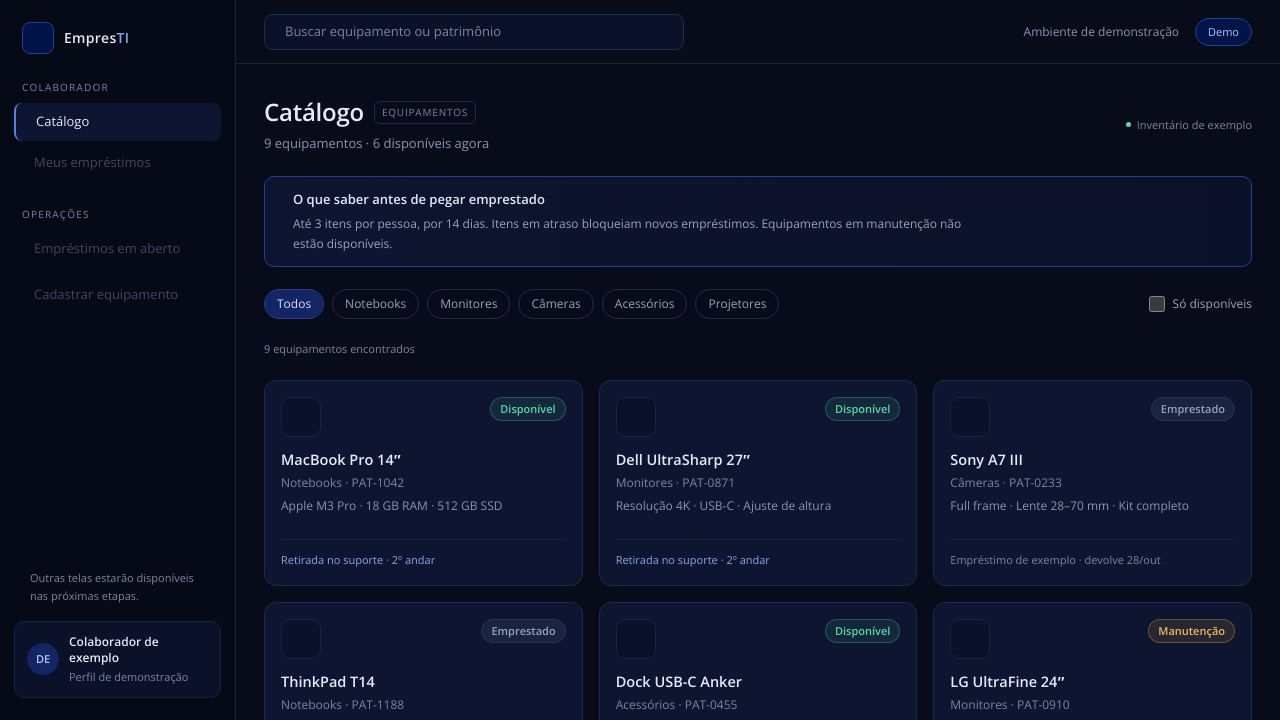
it: catálogo demonstrativo › CA-02: busca patrimônio e ignora acentos e caixa
Step 1. Type "pat-0233" into the field labelled "Buscar equipamento ou patrimônio" → (478, 32), box top-left (285, 22), bottom-right (671, 41)
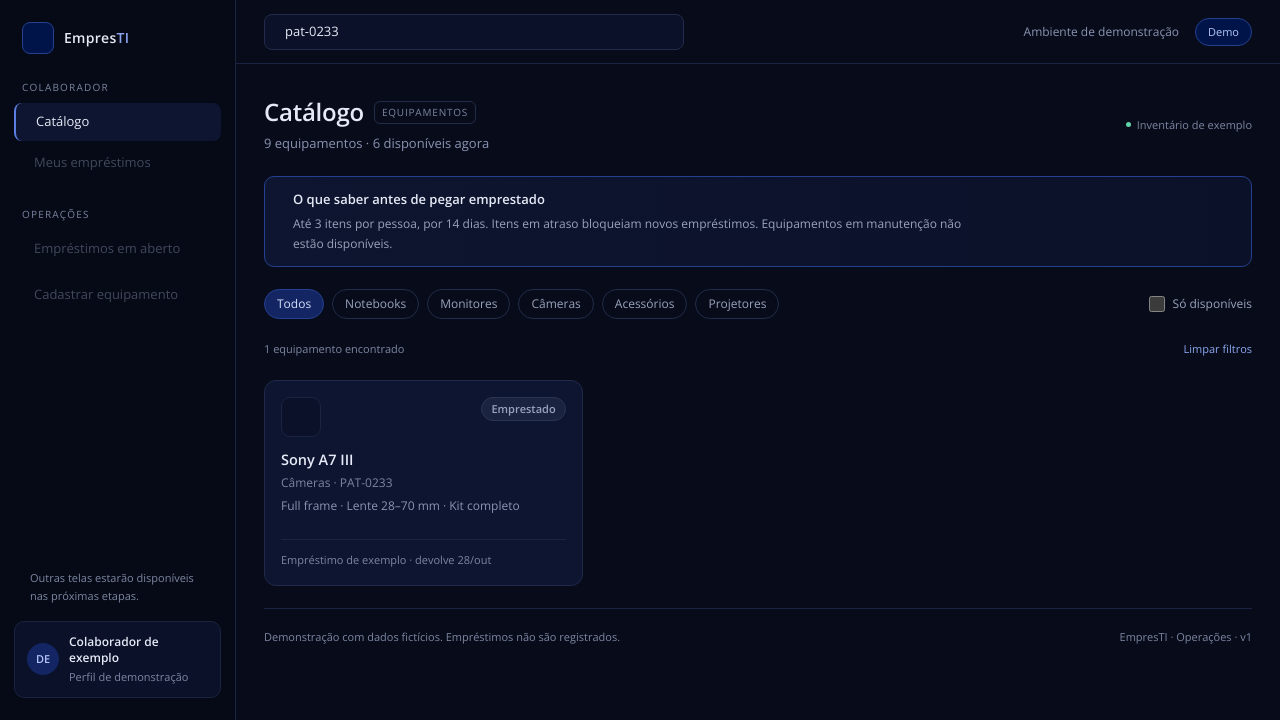
Expected: the heading "Sony A7 III" is shown, top-left (281, 450), bottom-right (354, 468)
Step 2. Replace the text in the field named "Buscar equipamento ou patrimônio" with "PROJETOR" → (462, 32), box top-left (285, 22), bottom-right (639, 41)
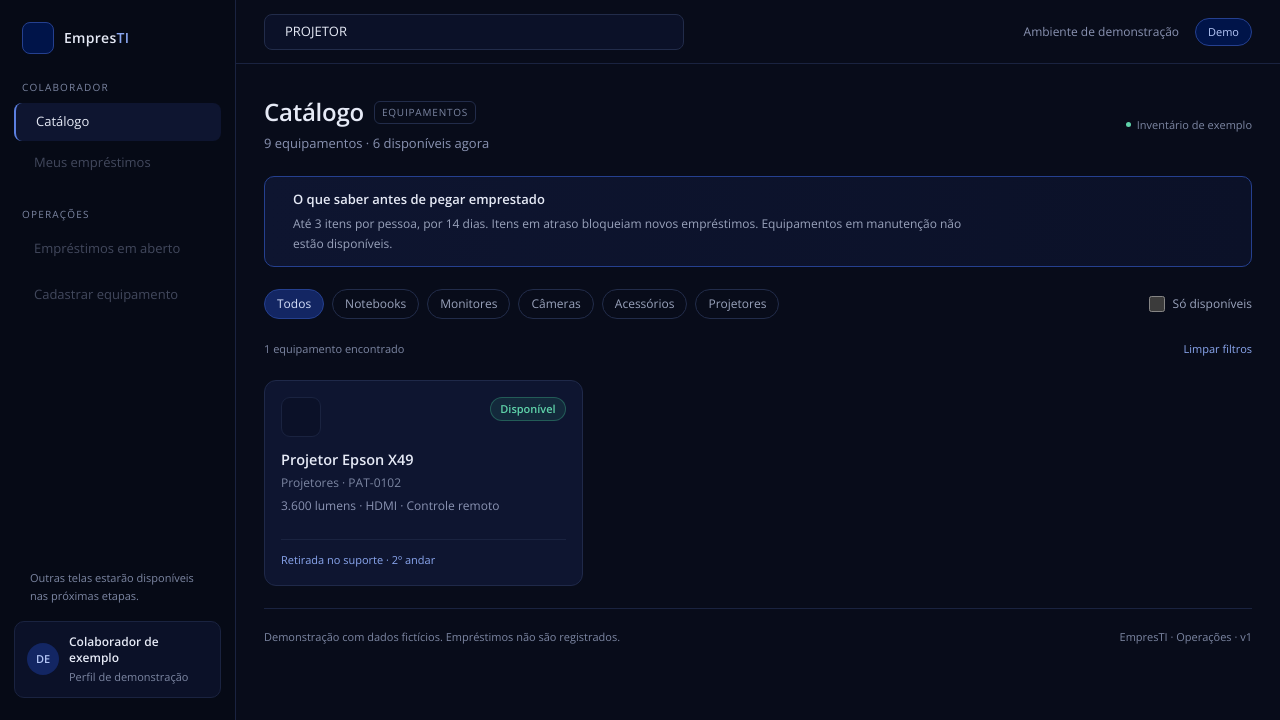
Result: the heading "Projetor Epson X49" is shown at top-left (281, 450), bottom-right (414, 468)
